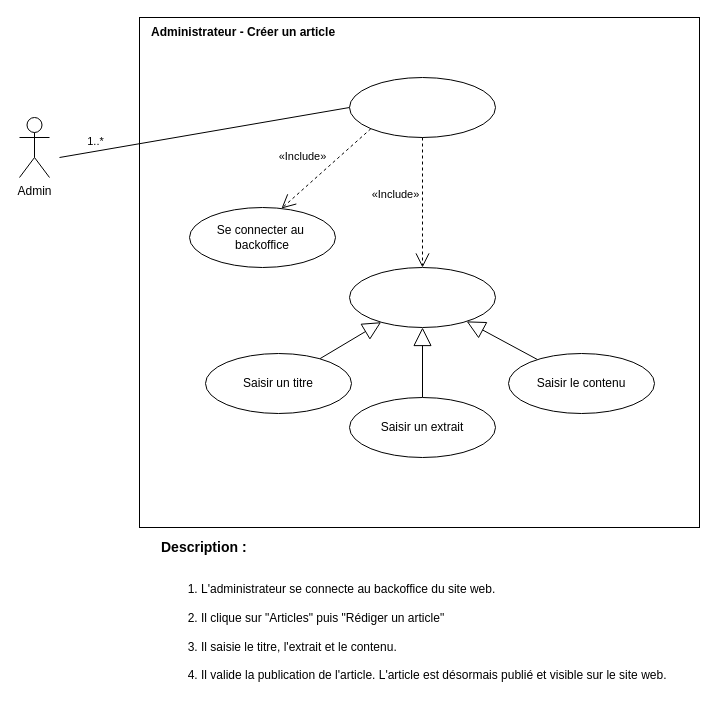
Some shapes in this 717 by 715 pixel diagram are drawn without their labels. Each missing label, with the centre of its shape:
"Rédiger un nouvel article" belongs at point (422, 107).
"Saisir les informations de l'article" belongs at point (422, 297).
